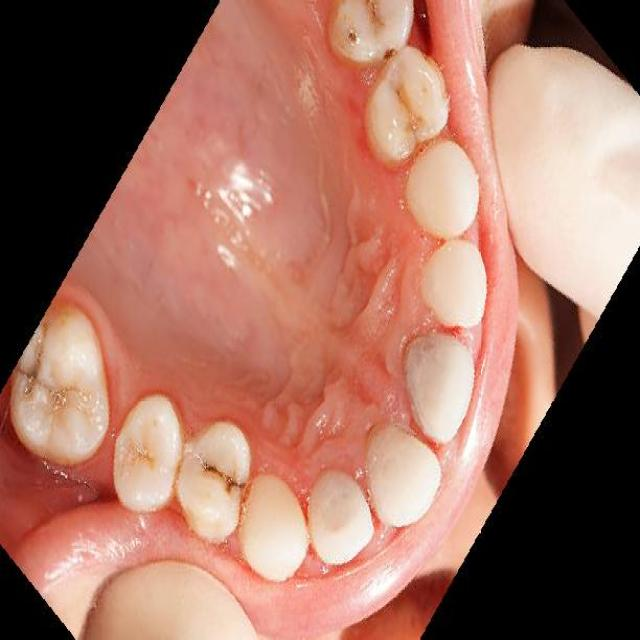caries: (196, 452, 241, 509), (390, 84, 433, 140), (21, 348, 47, 404), (342, 23, 361, 57), (382, 42, 399, 74), (366, 0, 383, 30)
